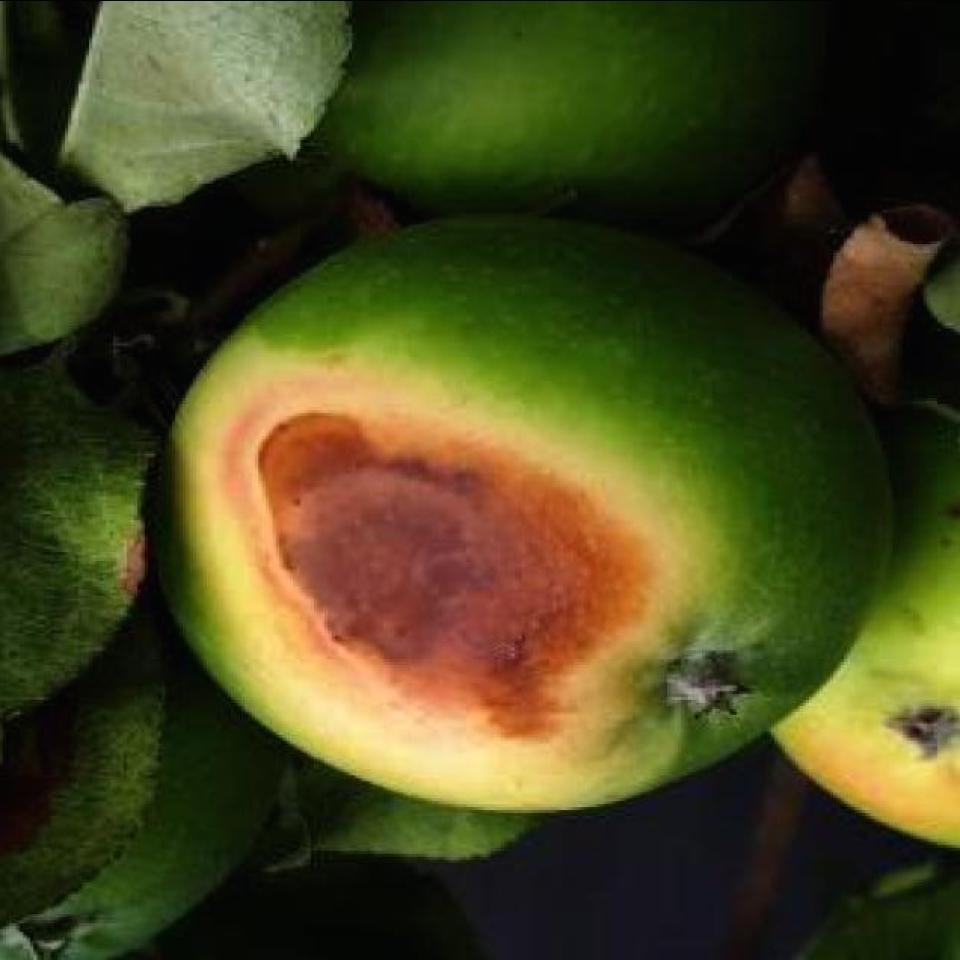Sunscald: (216, 366, 657, 792)
